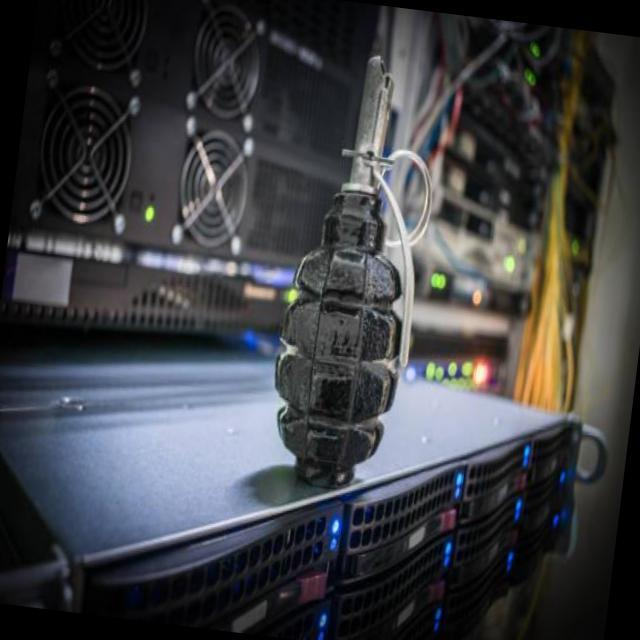grenade: (256, 38, 453, 492)
